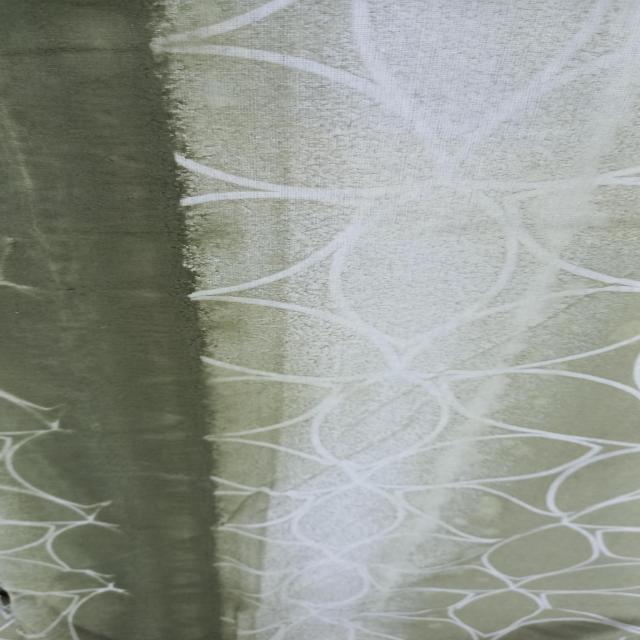baekra: (13, 2, 629, 637)
